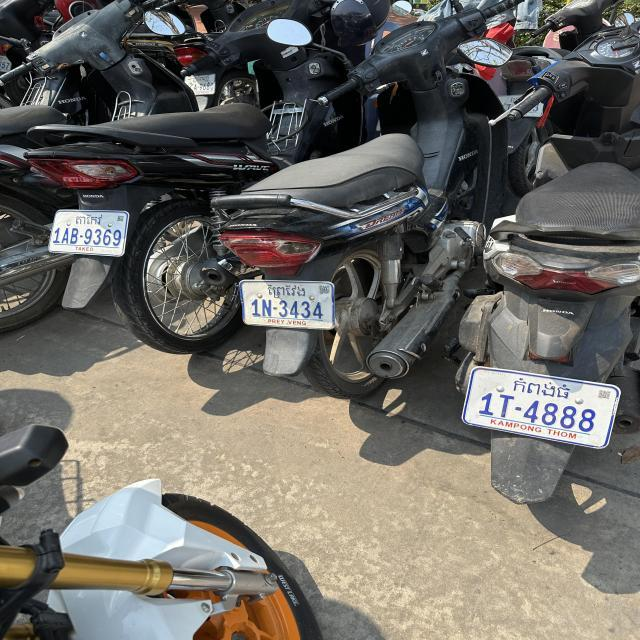Kampong_Thom: (513, 377, 571, 400)
Prey_Veng: (267, 284, 307, 299)
Takeo: (75, 214, 104, 226)
